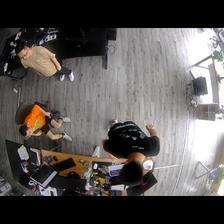normal: (104, 119, 162, 184), (13, 45, 74, 83), (16, 104, 73, 140)
